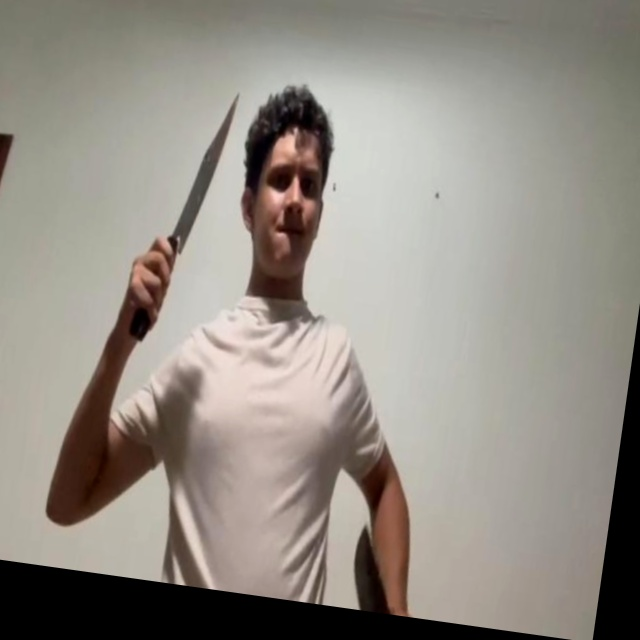Sharp-Object: (172, 89, 240, 257)
